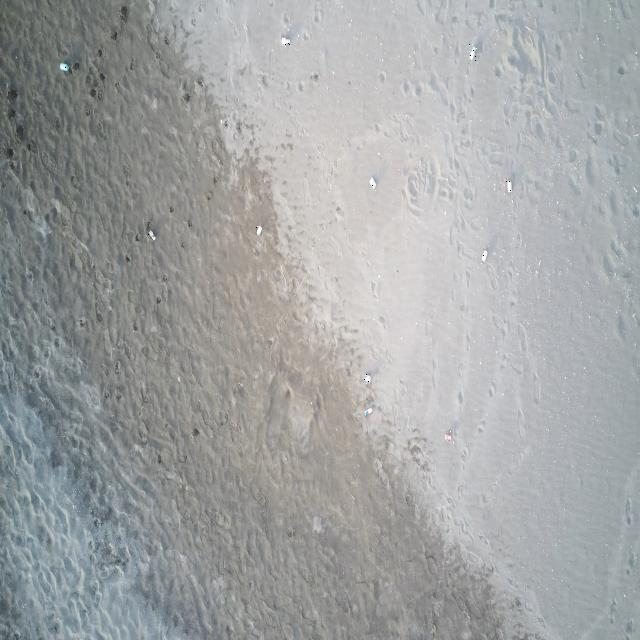Garbage: (444, 428, 452, 443), (468, 46, 475, 60), (504, 179, 511, 192), (147, 228, 154, 240), (480, 249, 487, 261), (280, 35, 289, 44), (60, 62, 68, 71), (369, 176, 375, 188), (363, 372, 369, 383), (364, 407, 372, 415), (256, 224, 261, 235)
